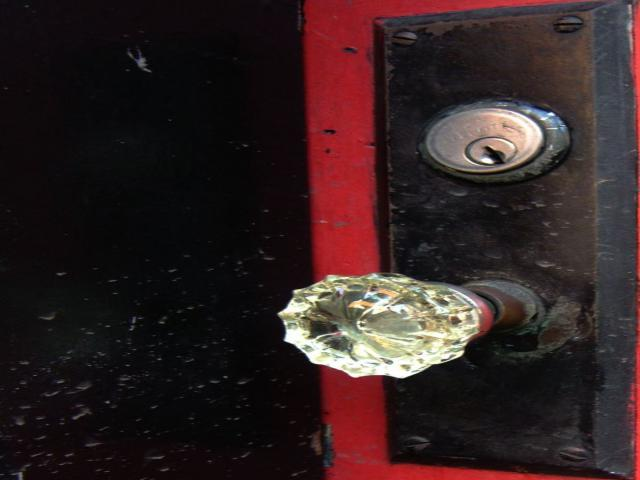Door-handle: (276, 272, 545, 379)
